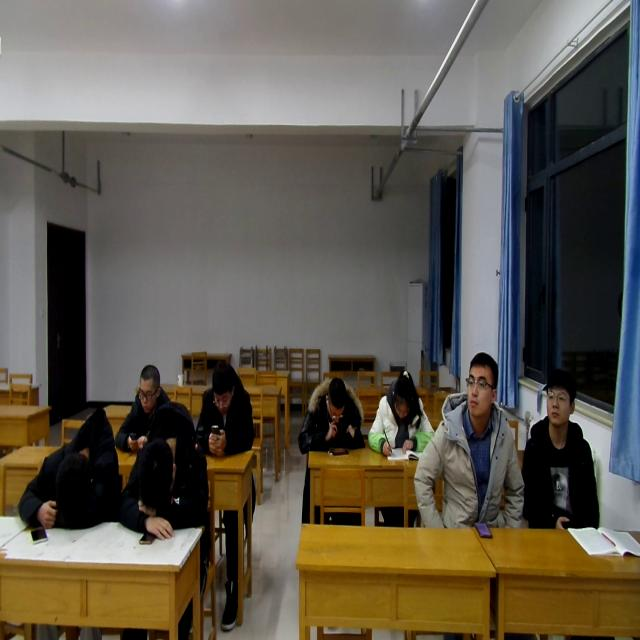bow: (18, 402, 120, 530), (114, 409, 212, 542)
down: (385, 368, 418, 423), (134, 359, 162, 416), (209, 354, 237, 406), (323, 371, 348, 421)
lookup: (464, 345, 502, 421), (544, 364, 576, 428)
sit: (411, 346, 525, 525), (523, 362, 600, 528), (298, 373, 366, 457), (198, 355, 252, 457), (364, 373, 432, 452), (118, 362, 188, 437)
